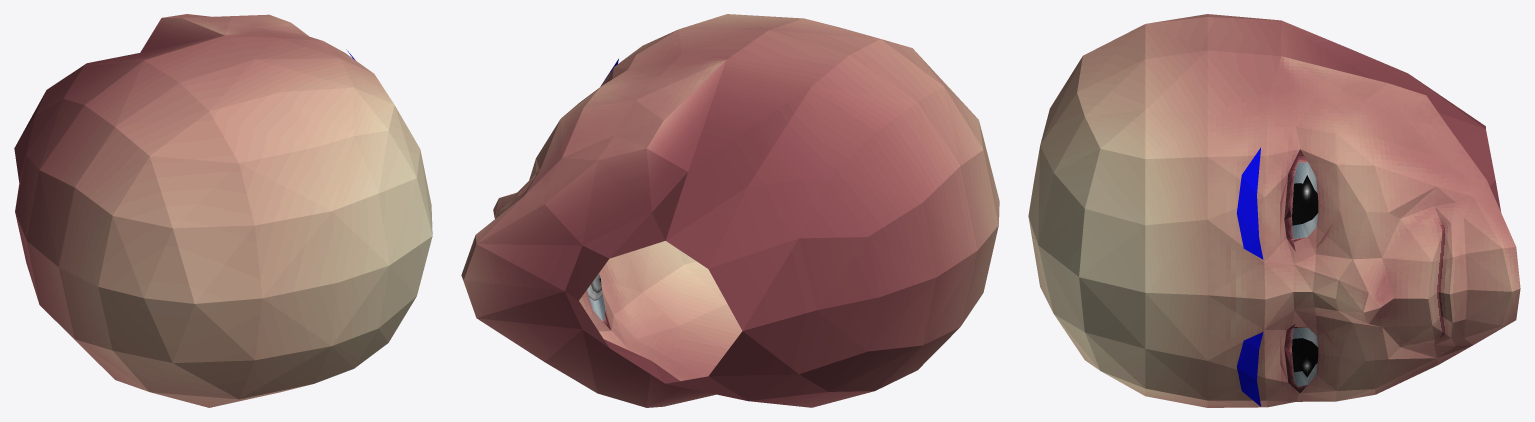
File: Npc_60108.obj
3 views of the same model, side by side, from view 1: azimuth 30°, elevation 25°; view 2: azimuth 150°, elevation 25°; view 3: azimuth 270°, elevation 25° (orthographic). The views are drawn at different scales.
Parts seen in each view (by area): view 1: Npc_60108; view 2: Npc_60108; view 3: Npc_60108.
Part boxes in pixels (x1,y1,x2,y2): Npc_60108: [14, 14, 432, 407]; Npc_60108: [461, 14, 999, 407]; Npc_60108: [1028, 14, 1520, 407].
Size of the model in its own units: 0.4271 by 0.342 by 0.455.
3 materials, 2 textured.
